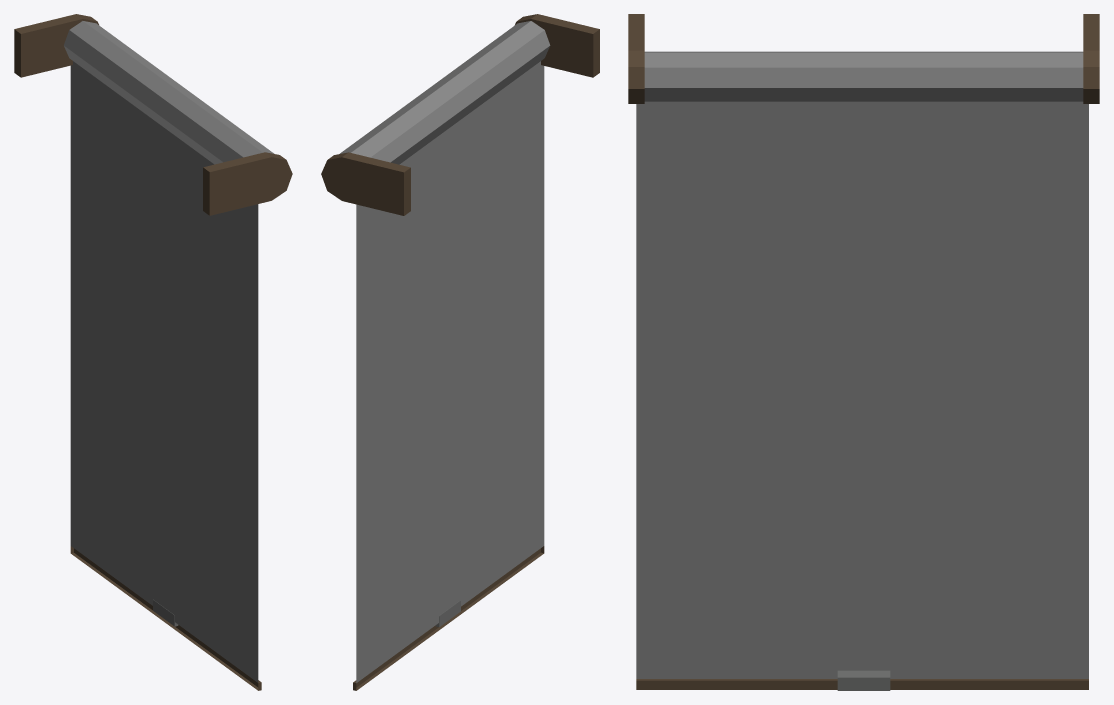
File: SM_rollerBlind_01a.glb
3 views of the same model, side by side, from view 1: azimuth 30°, elevation 25°; view 2: azimuth 150°, elevation 25°; view 3: azimuth 270°, elevation 25° (orthographic). The views are drawn at different scales.
Visible parts, largest first — view 1: SM_rollerBlind_01a; view 2: SM_rollerBlind_01a; view 3: SM_rollerBlind_01a.
Boxes of the visible parts, bbox=[...] form: SM_rollerBlind_01a: bbox=[14, 14, 292, 690]; SM_rollerBlind_01a: bbox=[321, 14, 599, 690]; SM_rollerBlind_01a: bbox=[628, 14, 1099, 690].
Size of the model in its own units: 0.304 by 1.87 by 1.24.
Materials: 2 (1 with a texture image).
